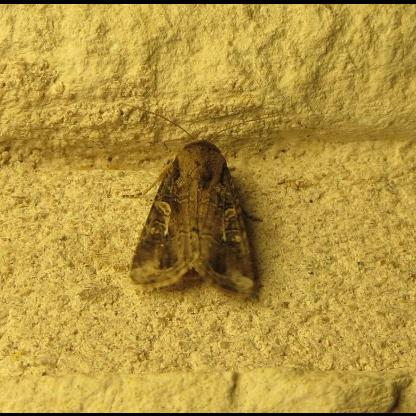Fall Armyworm Moth: (116, 99, 278, 301)
